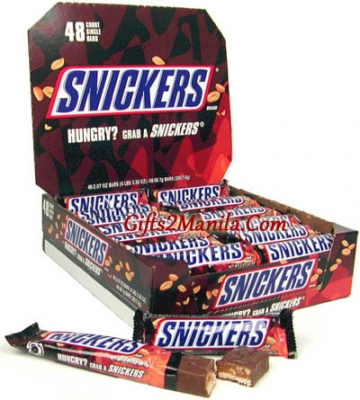snickers: (53, 67, 209, 113), (216, 260, 312, 303), (159, 316, 267, 346), (267, 231, 332, 259), (62, 219, 106, 260), (158, 242, 239, 262), (49, 331, 143, 347), (127, 233, 204, 252), (69, 190, 137, 209), (223, 214, 288, 233), (237, 222, 303, 240), (160, 184, 217, 202), (44, 337, 143, 347), (79, 203, 148, 217), (181, 194, 242, 207), (202, 205, 261, 218)
